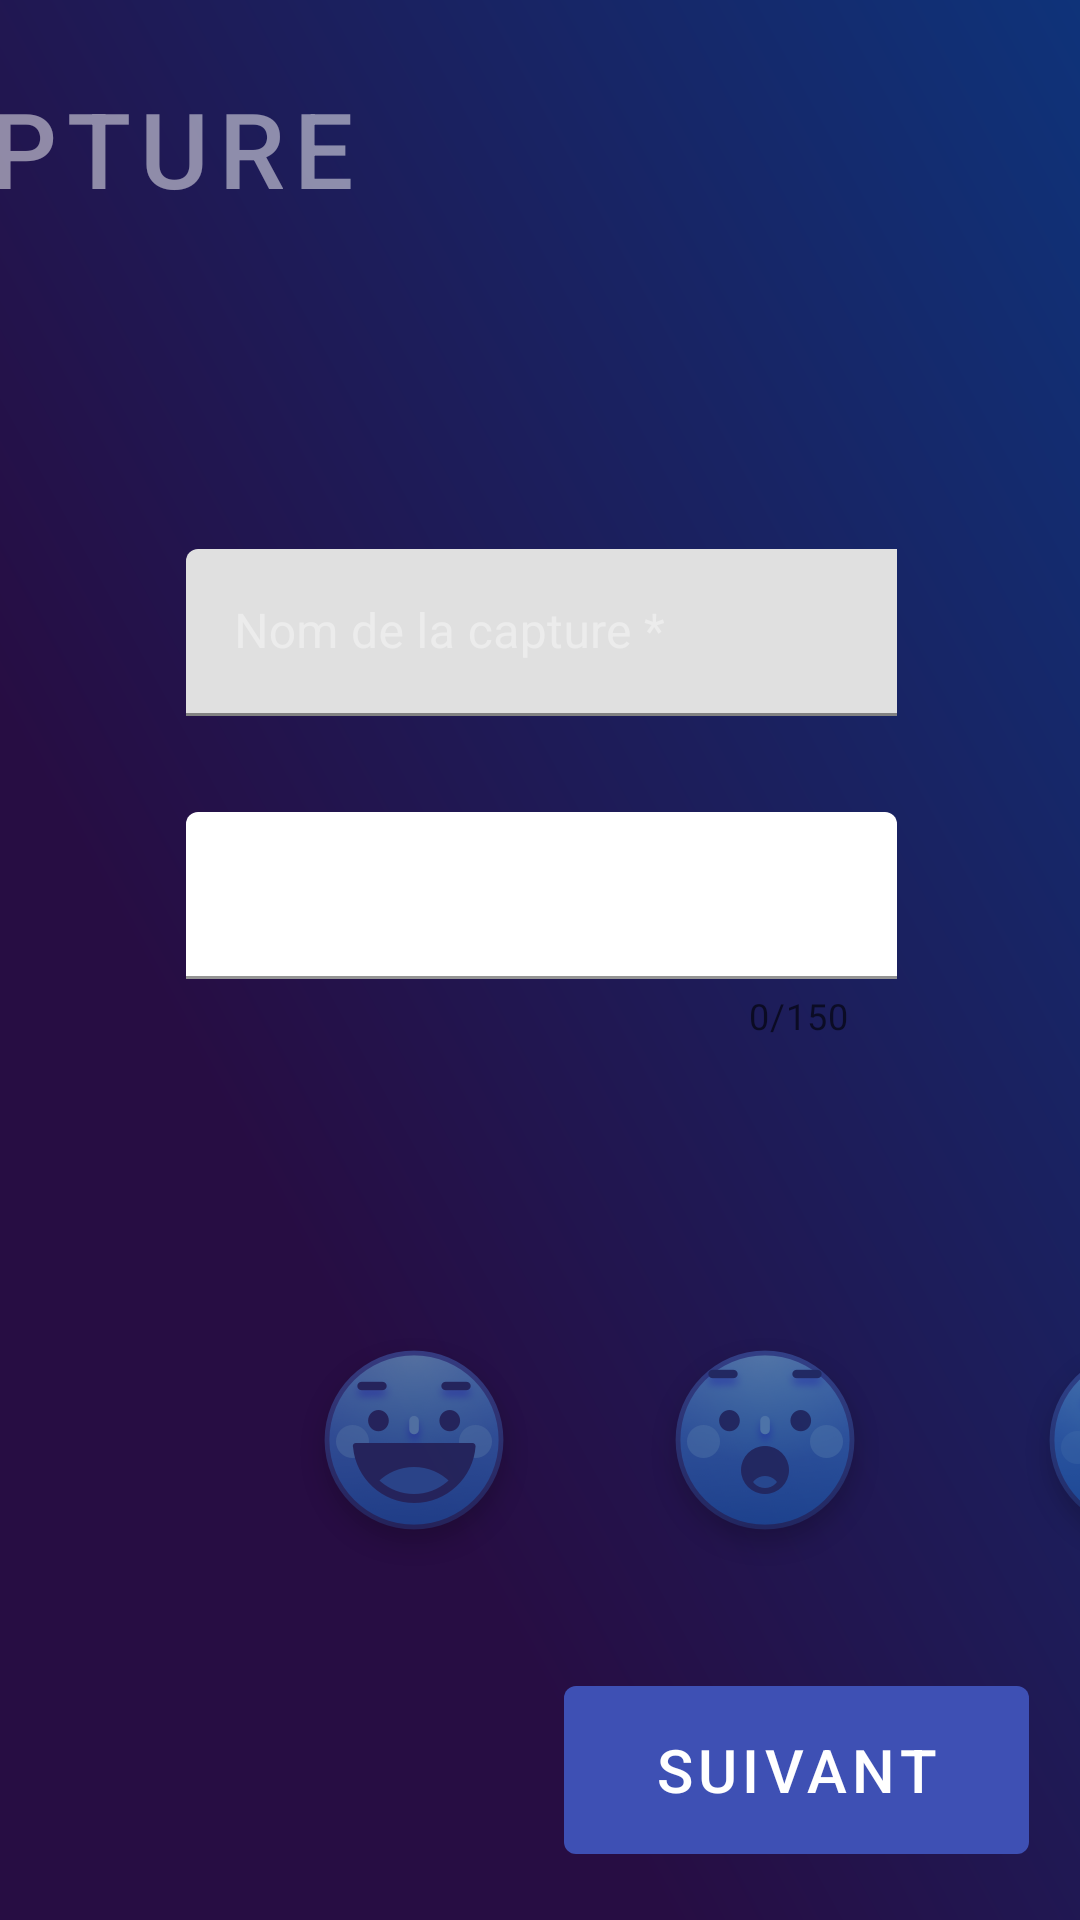

Screen size 1080w x 1920h. Icon name, then its box in pixels as (x1, y1, x2, y2):
content: (325, 1351, 503, 1525)
etonne: (676, 1351, 854, 1525)
